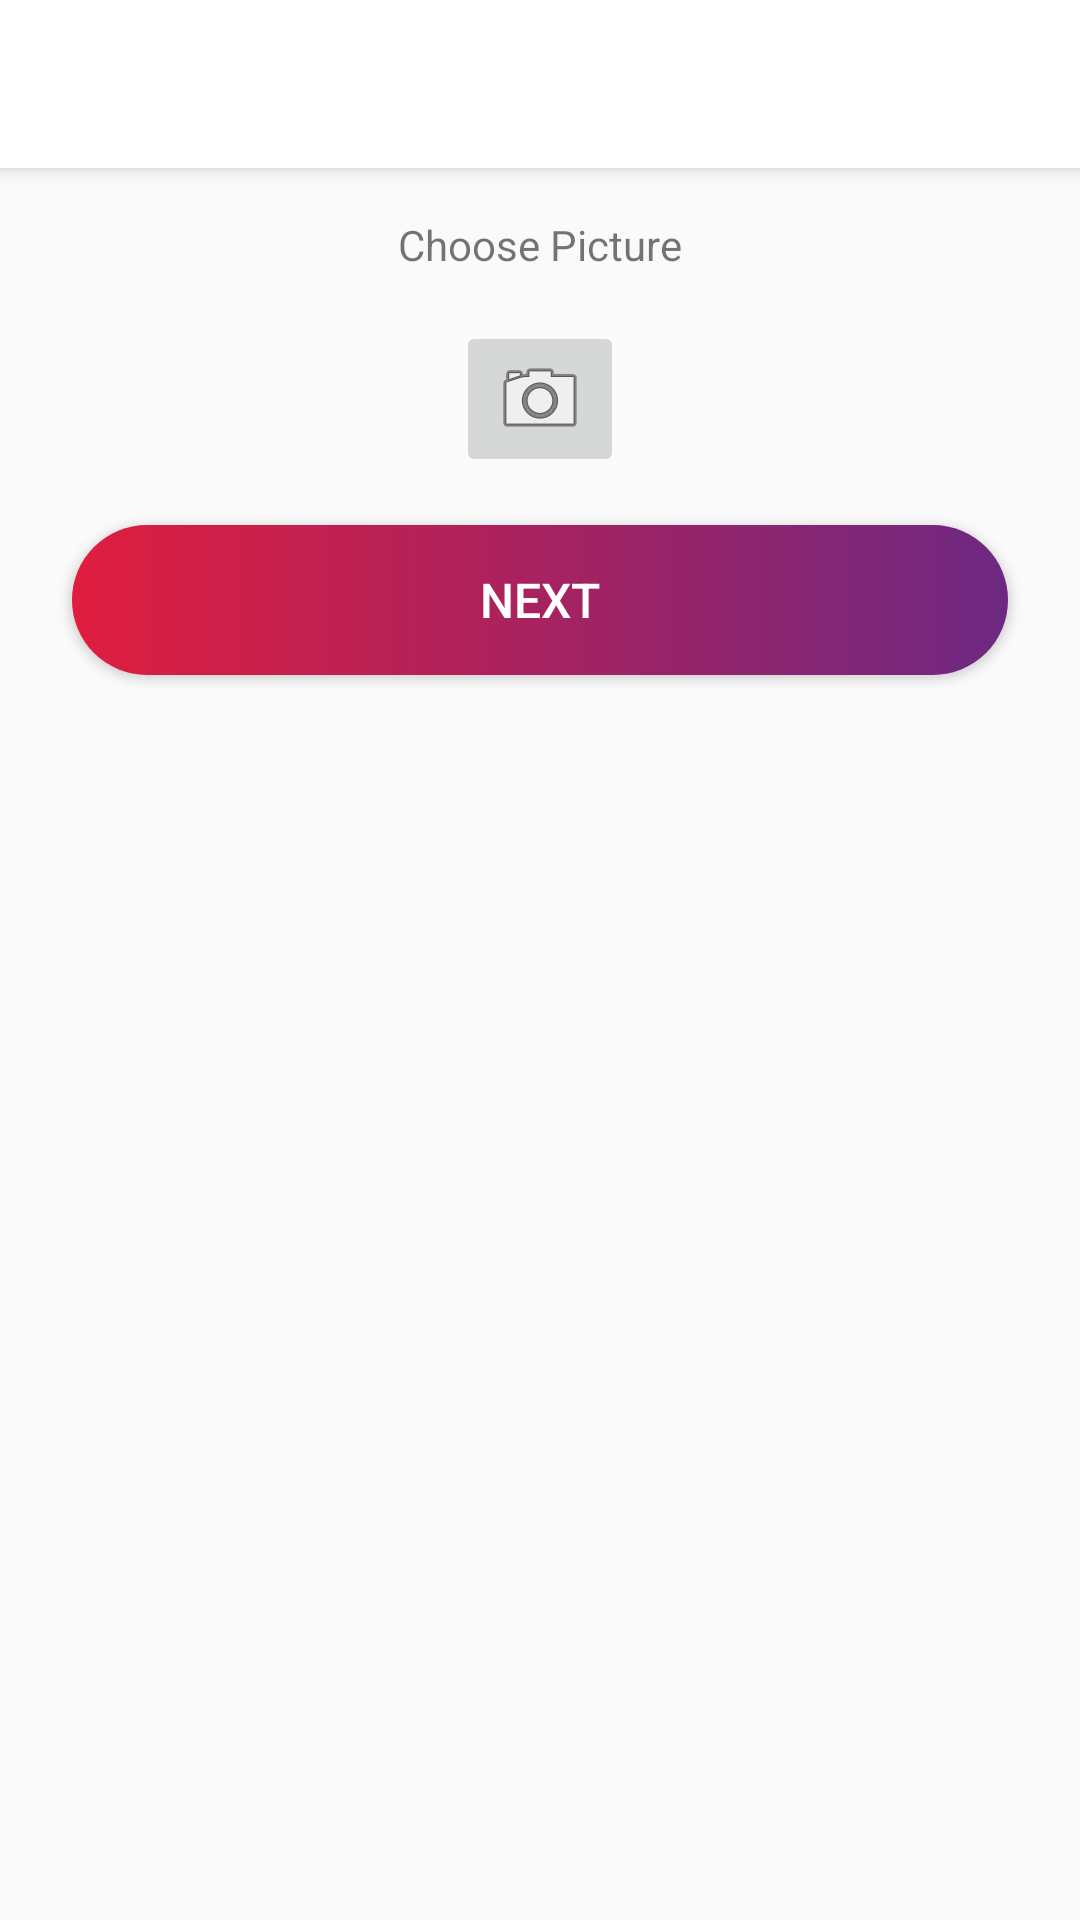

Screen size 1080px x 1920px. Icon name, then its box in pixels as (x1, y1, x2, y2):
camera: (468, 339, 612, 459)
